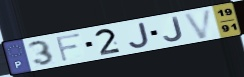2: (94, 27, 123, 56)
3: (27, 39, 56, 66)
F: (54, 31, 83, 63)
J: (127, 21, 151, 49), (163, 15, 186, 43)
V: (182, 7, 215, 41)
